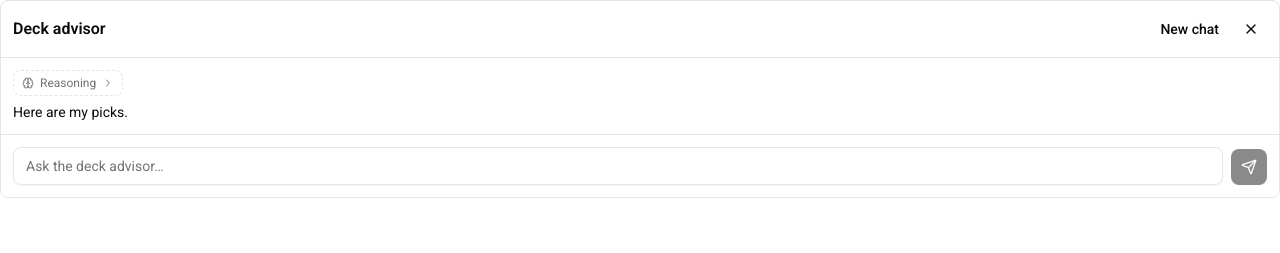
Test case: AiChatPanel › renders reasoning parts collapsed, expandable to the reasoning text
Click the button with test id "reasoning-block" at (68, 83), box left=13, top=70, right=123, bottom=96
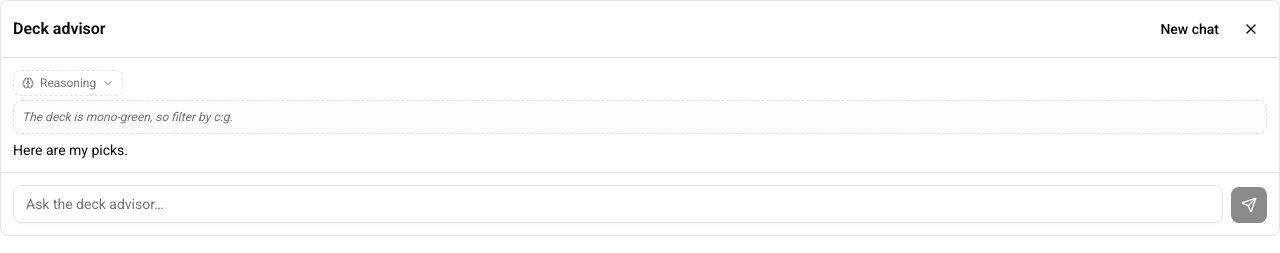
Result: the text with test id "reasoning-text" reads "The deck is mono-green, so filter by c:g." at left=22, top=110, right=232, bottom=124
